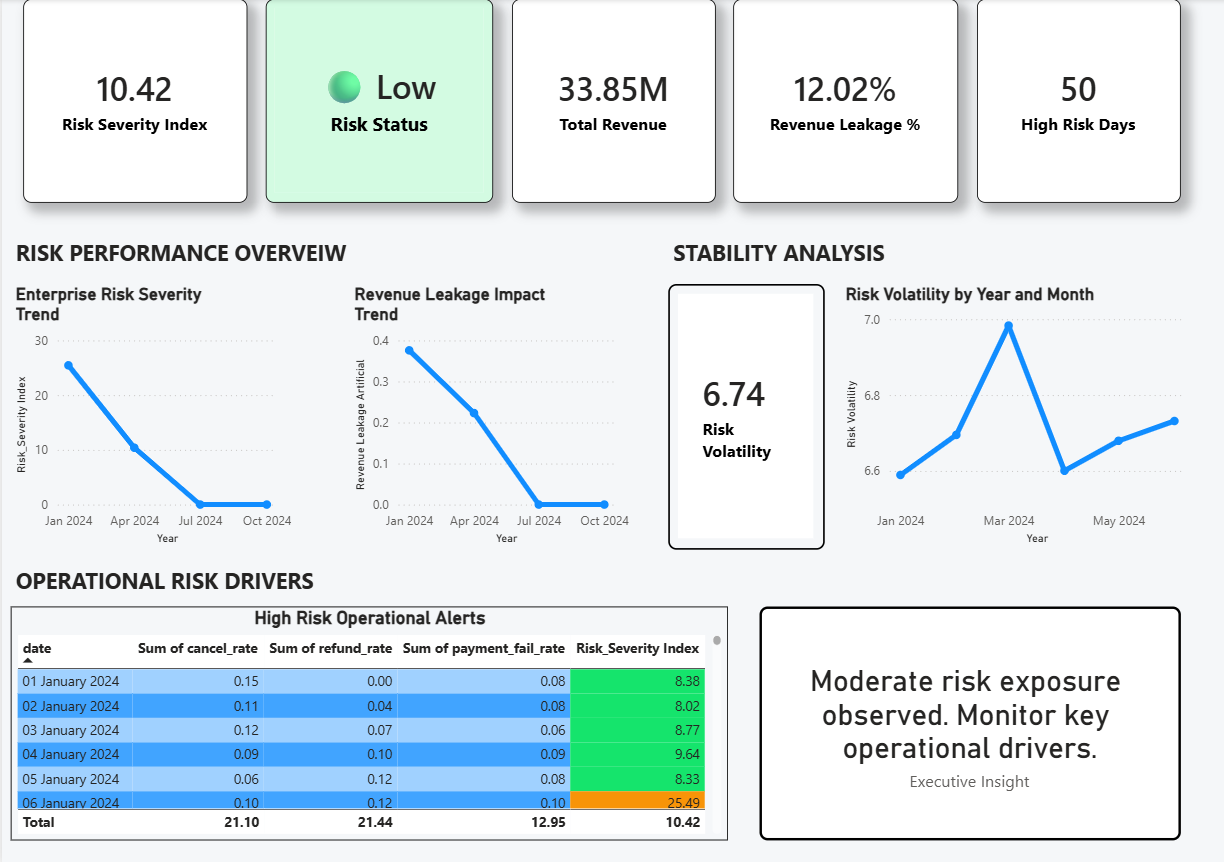

The dashboard page shown, as its layout file describes it:
{"tool":"powerbi","page":{"name":"Page 1","canvas":[1200,850],"ordinal":0},"visuals":[{"type":"cardVisual","title":"Risk ","fields":{"Data":["Date_Table.Risk_Severity Index"]},"box":[21.1,0,219.7,199.8],"z":0},{"type":"cardVisual","fields":{"Data":["Date_Table.Revenue Leakage %"]},"box":[718,0,220.9,199.8],"z":1000},{"type":"cardVisual","fields":{"Data":["Date_Table.High_Risk Days"]},"box":[957,0,199.8,199.8],"z":2000},{"type":"cardVisual","fields":{"Data":["Date_Table.Total Revenue"]},"box":[500.2,0,199.8,199.8],"z":3000},{"type":"lineChart","title":"Enterprise Risk Severity Trend","fields":{"Category":["Date_Table.Date.Variation.Date Hierarchy.Year","Date_Table.Date.Variation.Date Hierarchy.Quarter","Date_Table.Date.Variation.Date Hierarchy.Month","Date_Table.Date.Variation.Date Hierarchy.Day"],"Y":["Date_Table.Risk_Severity Index"]},"box":[8.7,279.3,280.5,260.7],"z":4000},{"type":"lineChart","title":"Revenue Leakage Impact Trend","fields":{"Category":["Date_Table.Date.Variation.Date Hierarchy.Year","Date_Table.Date.Variation.Date Hierarchy.Quarter","Date_Table.Date.Variation.Date Hierarchy.Month","Date_Table.Date.Variation.Date Hierarchy.Day"],"Y":["Date_Table.Revenue Leakage Artificial"]},"box":[341.3,279.3,279.3,260.7],"z":5000},{"type":"tableEx","title":"High Risk Operational Alerts","fields":{"Values":["daily_risk_dashboard.date","Sum(daily_risk_dashboard.cancel_rate)","Sum(daily_risk_dashboard.refund_rate)","Sum(daily_risk_dashboard.payment_fail_rate)","Date_Table.Risk_Severity Index"]},"box":[8.7,595.8,703.8,229.6],"z":6000},{"type":"cardVisual","fields":{"Data":["Date_Table.Risk Status"]},"box":[258.8,0,223.3,200],"z":7000},{"type":"cardVisual","fields":{"Data":["Date_Table.Risk Volatility"]},"box":[654.1,279.3,153.9,260.7],"z":8000},{"type":"lineChart","fields":{"Y":["Date_Table.Risk Volatility"],"Category":["Date_Table.Date.Variation.Date Hierarchy.Year","Date_Table.Date.Variation.Date Hierarchy.Month"]},"box":[822.9,279.3,358.7,260.7],"z":9000},{"type":"textbox","box":[8.7,229.6,366.2,49.6],"z":10000},{"type":"textbox","box":[8.7,551.1,332.7,44.7],"z":11000},{"type":"textbox","box":[654.1,229.6,228.4,45.9],"z":12000},{"type":"card","fields":{"Values":["Date_Table.Executive Insight"]},"box":[743.5,595.8,413.3,229.6],"z":12001}]}

Visuals, with their boxes in screenshot pixels (x1, y1, x2, y2), scaled from the page's 1200x850 canvas onto the 1224x862 screenshot:
"Risk " cardVisual: (left=22, top=0, right=246, bottom=203)
cardVisual - Date_Table.Revenue Leakage %: (left=732, top=0, right=958, bottom=203)
cardVisual - Date_Table.High_Risk Days: (left=976, top=0, right=1180, bottom=203)
cardVisual - Date_Table.Total Revenue: (left=510, top=0, right=714, bottom=203)
"Enterprise Risk Severity Trend" lineChart: (left=9, top=283, right=295, bottom=548)
"Revenue Leakage Impact Trend" lineChart: (left=348, top=283, right=633, bottom=548)
"High Risk Operational Alerts" tableEx: (left=9, top=604, right=727, bottom=837)
cardVisual - Date_Table.Risk Status: (left=264, top=0, right=492, bottom=203)
cardVisual - Date_Table.Risk Volatility: (left=667, top=283, right=824, bottom=548)
lineChart - Date_Table.Risk Volatility x Date_Table.Date.Variation.Date Hierarchy.Year: (left=839, top=283, right=1205, bottom=548)
textbox: (left=9, top=233, right=382, bottom=283)
textbox: (left=9, top=559, right=348, bottom=604)
textbox: (left=667, top=233, right=900, bottom=279)
card - Date_Table.Executive Insight: (left=758, top=604, right=1180, bottom=837)
